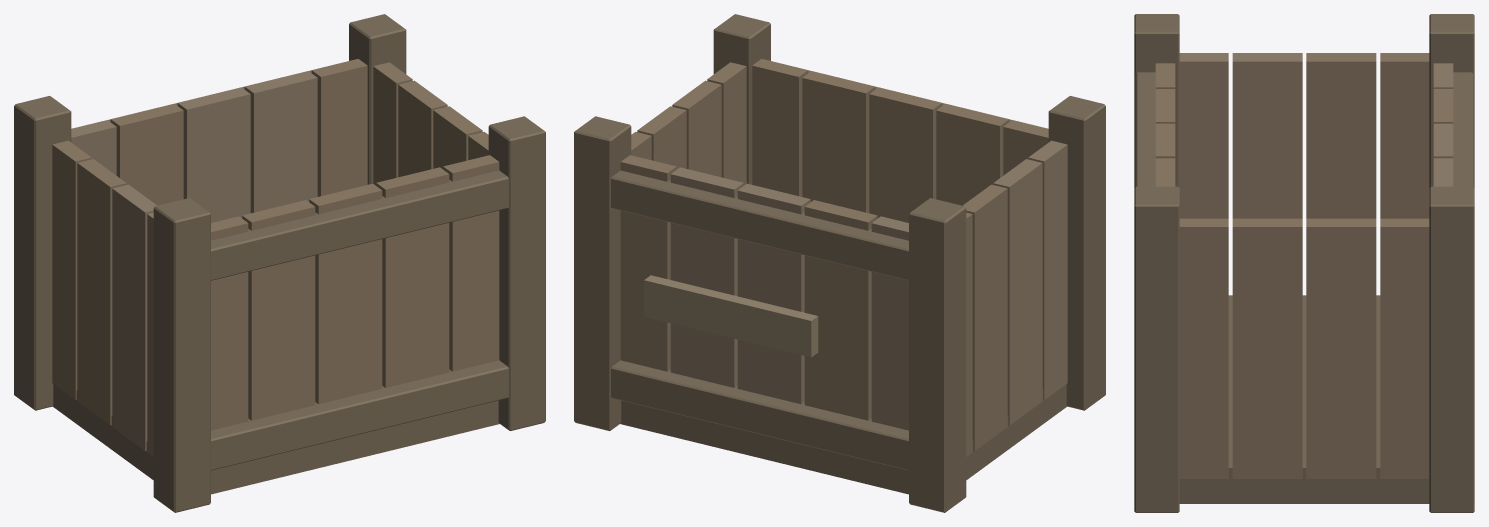
File: env_crate_v08_open_top.glb
The picture shows the model from 3 angles, left to right: view 1: azimuth 30°, elevation 25°; view 2: azimuth 150°, elevation 25°; view 3: azimuth 270°, elevation 25°; orthographic projection. The views are drawn at different scales.
Parts seen in each view (by area): view 1: material_0, material_2, material_5; view 2: material_2, material_0, material_5, material_6; view 3: material_0, material_2, material_5.
Part boxes in pixels (left/top/right/bottom): material_0: left=52, top=59, right=499, bottom=469; material_2: left=14, top=14, right=545, bottom=512; material_5: left=71, top=71, right=317, bottom=456; material_2: left=574, top=14, right=1105, bottom=512; material_0: left=620, top=59, right=1048, bottom=459; material_5: left=670, top=140, right=1067, bottom=469; material_6: left=644, top=275, right=818, bottom=357; material_0: left=1155, top=53, right=1453, bottom=478; material_2: left=1134, top=14, right=1474, bottom=512; material_5: left=1179, top=53, right=1453, bottom=218.
Size of the model in its own units: 0.8 by 0.6 by 0.6.
